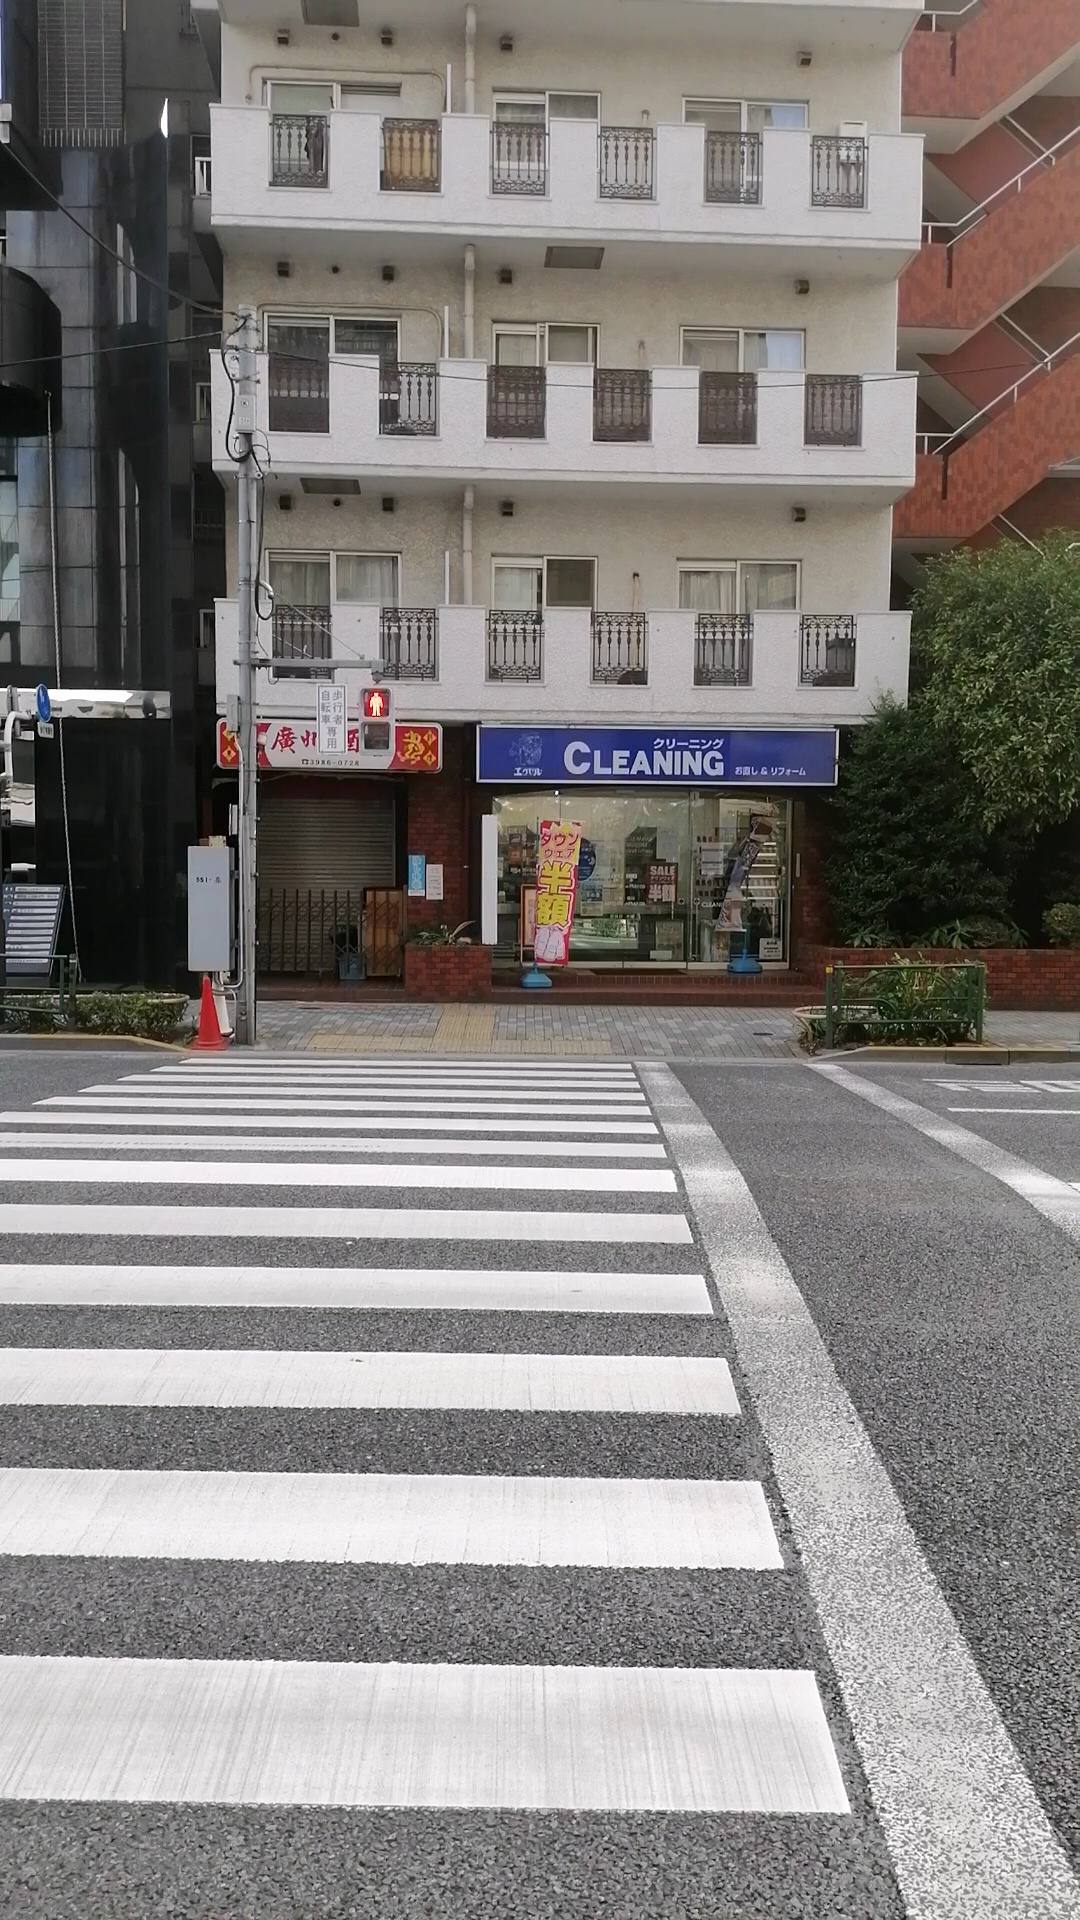red: (357, 684, 394, 754)
